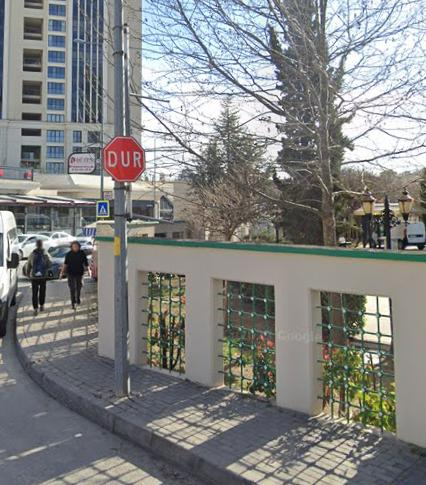stop: (104, 134, 147, 182)
